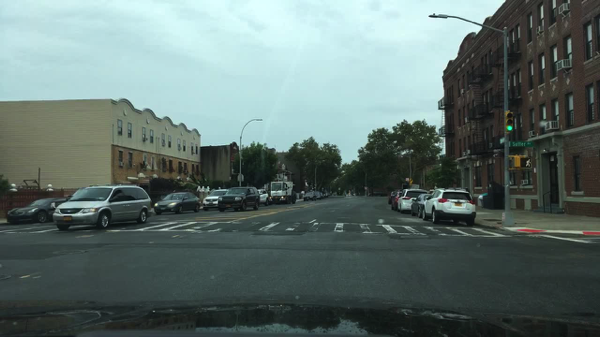car: (51, 185, 154, 231), (421, 187, 477, 227), (6, 197, 67, 227), (153, 191, 201, 215), (219, 187, 260, 212), (397, 189, 427, 214), (202, 189, 228, 212), (409, 193, 431, 218), (257, 189, 271, 208), (390, 191, 401, 211), (302, 191, 316, 202), (388, 191, 396, 205), (315, 191, 322, 200), (322, 191, 329, 199)
traffic light: (504, 110, 513, 133), (511, 154, 521, 172), (521, 156, 531, 170)
traffic sign: (507, 142, 534, 149), (236, 174, 245, 183)
truck: (270, 181, 297, 206)
